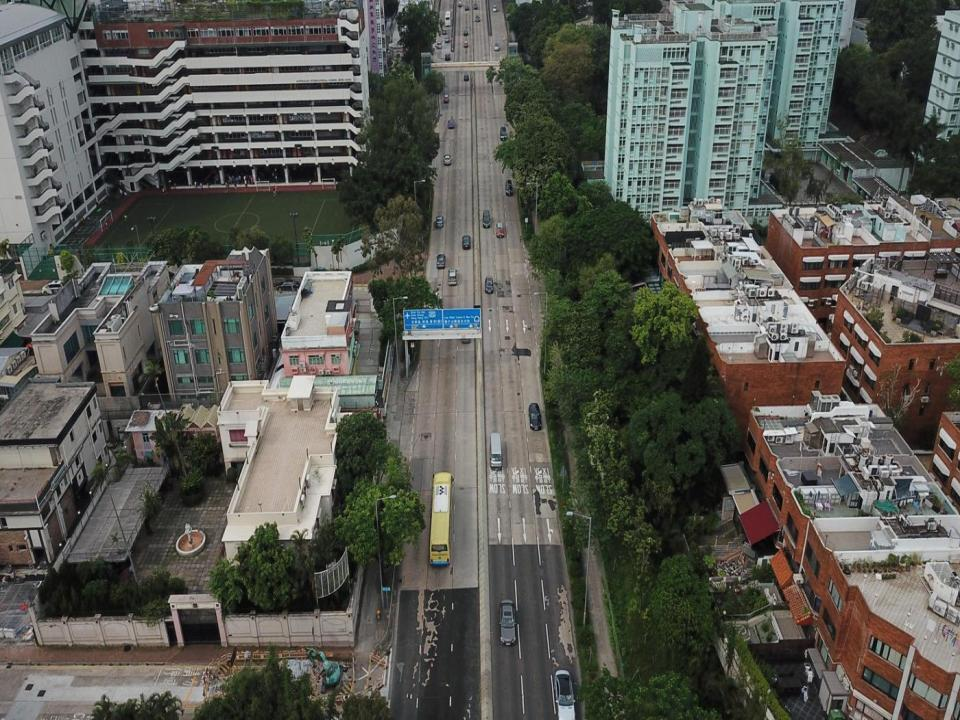bus: (429, 472, 454, 566), (445, 10, 451, 27)
car: (554, 670, 576, 719), (499, 597, 516, 645), (528, 403, 542, 430), (276, 279, 300, 292), (495, 221, 505, 238), (435, 254, 445, 270), (448, 269, 457, 285), (485, 276, 493, 293), (462, 235, 471, 249), (436, 216, 444, 229), (444, 154, 451, 164), (449, 119, 454, 130), (493, 42, 499, 51), (475, 15, 481, 22), (444, 92, 448, 102), (464, 73, 469, 81), (463, 41, 468, 49), (492, 4, 497, 12), (444, 36, 449, 42), (457, 0, 462, 6), (464, 29, 468, 36), (465, 4, 469, 11), (474, 2, 478, 9)
van: (490, 432, 503, 471), (42, 280, 67, 293), (482, 209, 491, 228), (506, 180, 514, 196), (500, 125, 507, 140), (446, 52, 451, 60), (437, 40, 440, 47)
